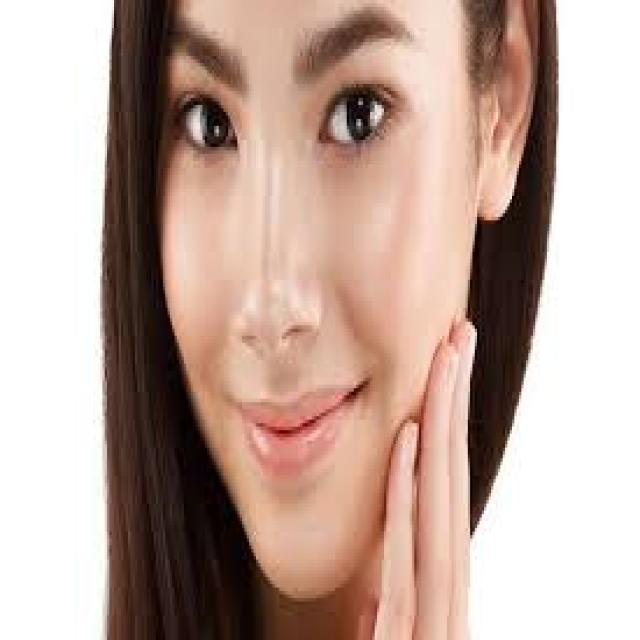Oily-Skin: (327, 177, 425, 336), (245, 149, 298, 326), (168, 180, 234, 321), (257, 509, 346, 572)
